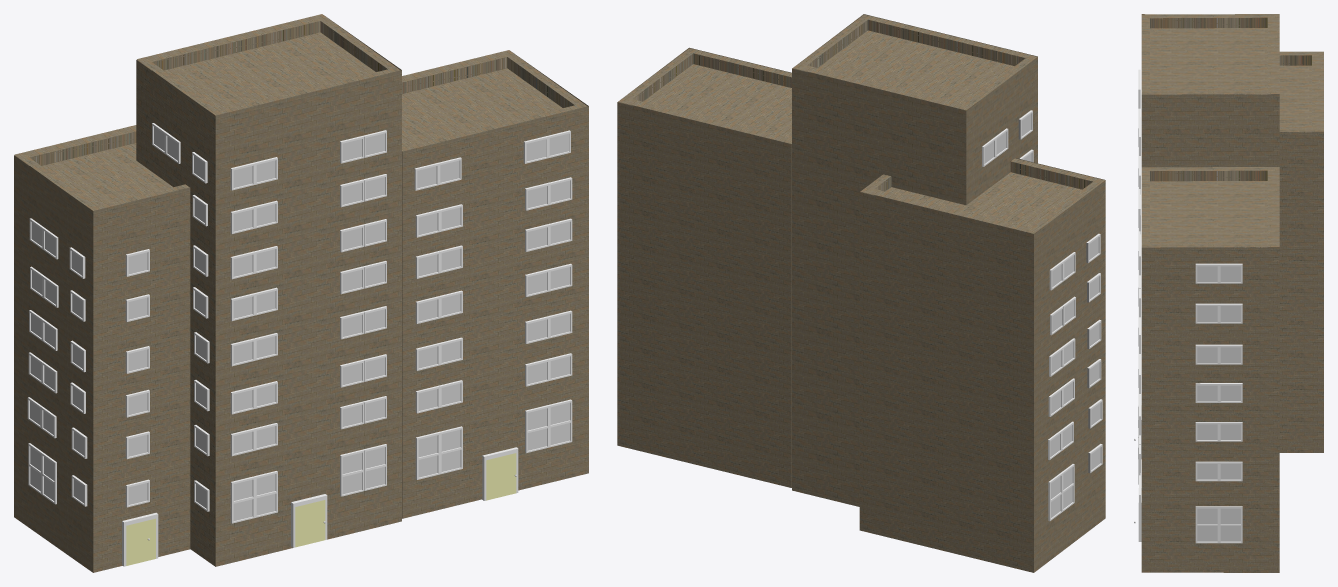
The model's file is Building_6_VAL.fbx.
3 renders of one model, left to right at view 1: azimuth 30°, elevation 25°; view 2: azimuth 150°, elevation 25°; view 3: azimuth 270°, elevation 25°, orthographic. The views are drawn at different scales.
Parts seen in each view (by area): view 1: pCube2 (×3), doors1, doors2, doors3; view 2: pCube2 (×3); view 3: pCube2 (×3), window (×8), window1 (×8).
Part boxes in pixels (left/top/right/bottom): pCube2 (×3): left=14, top=14, right=588, bottom=572; doors1: left=291, top=494, right=327, bottom=547; doors2: left=122, top=512, right=158, bottom=566; doors3: left=482, top=447, right=518, bottom=500; pCube2 (×3): left=617, top=14, right=1105, bottom=572; pCube2 (×3): left=1141, top=14, right=1323, bottom=572; window (×8): left=1219, top=263, right=1242, bottom=543; window1 (×8): left=1195, top=263, right=1218, bottom=543.
Size of what is drawn, in the model's own units: 20.67 by 18.84 by 8.09.
